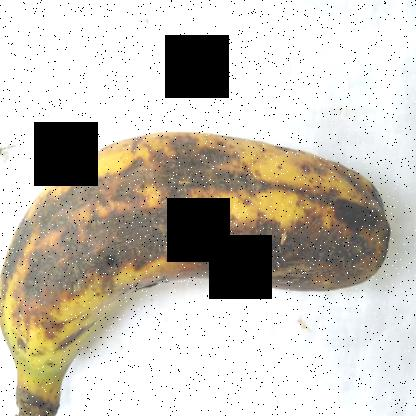rotten: (0, 112, 402, 415)
